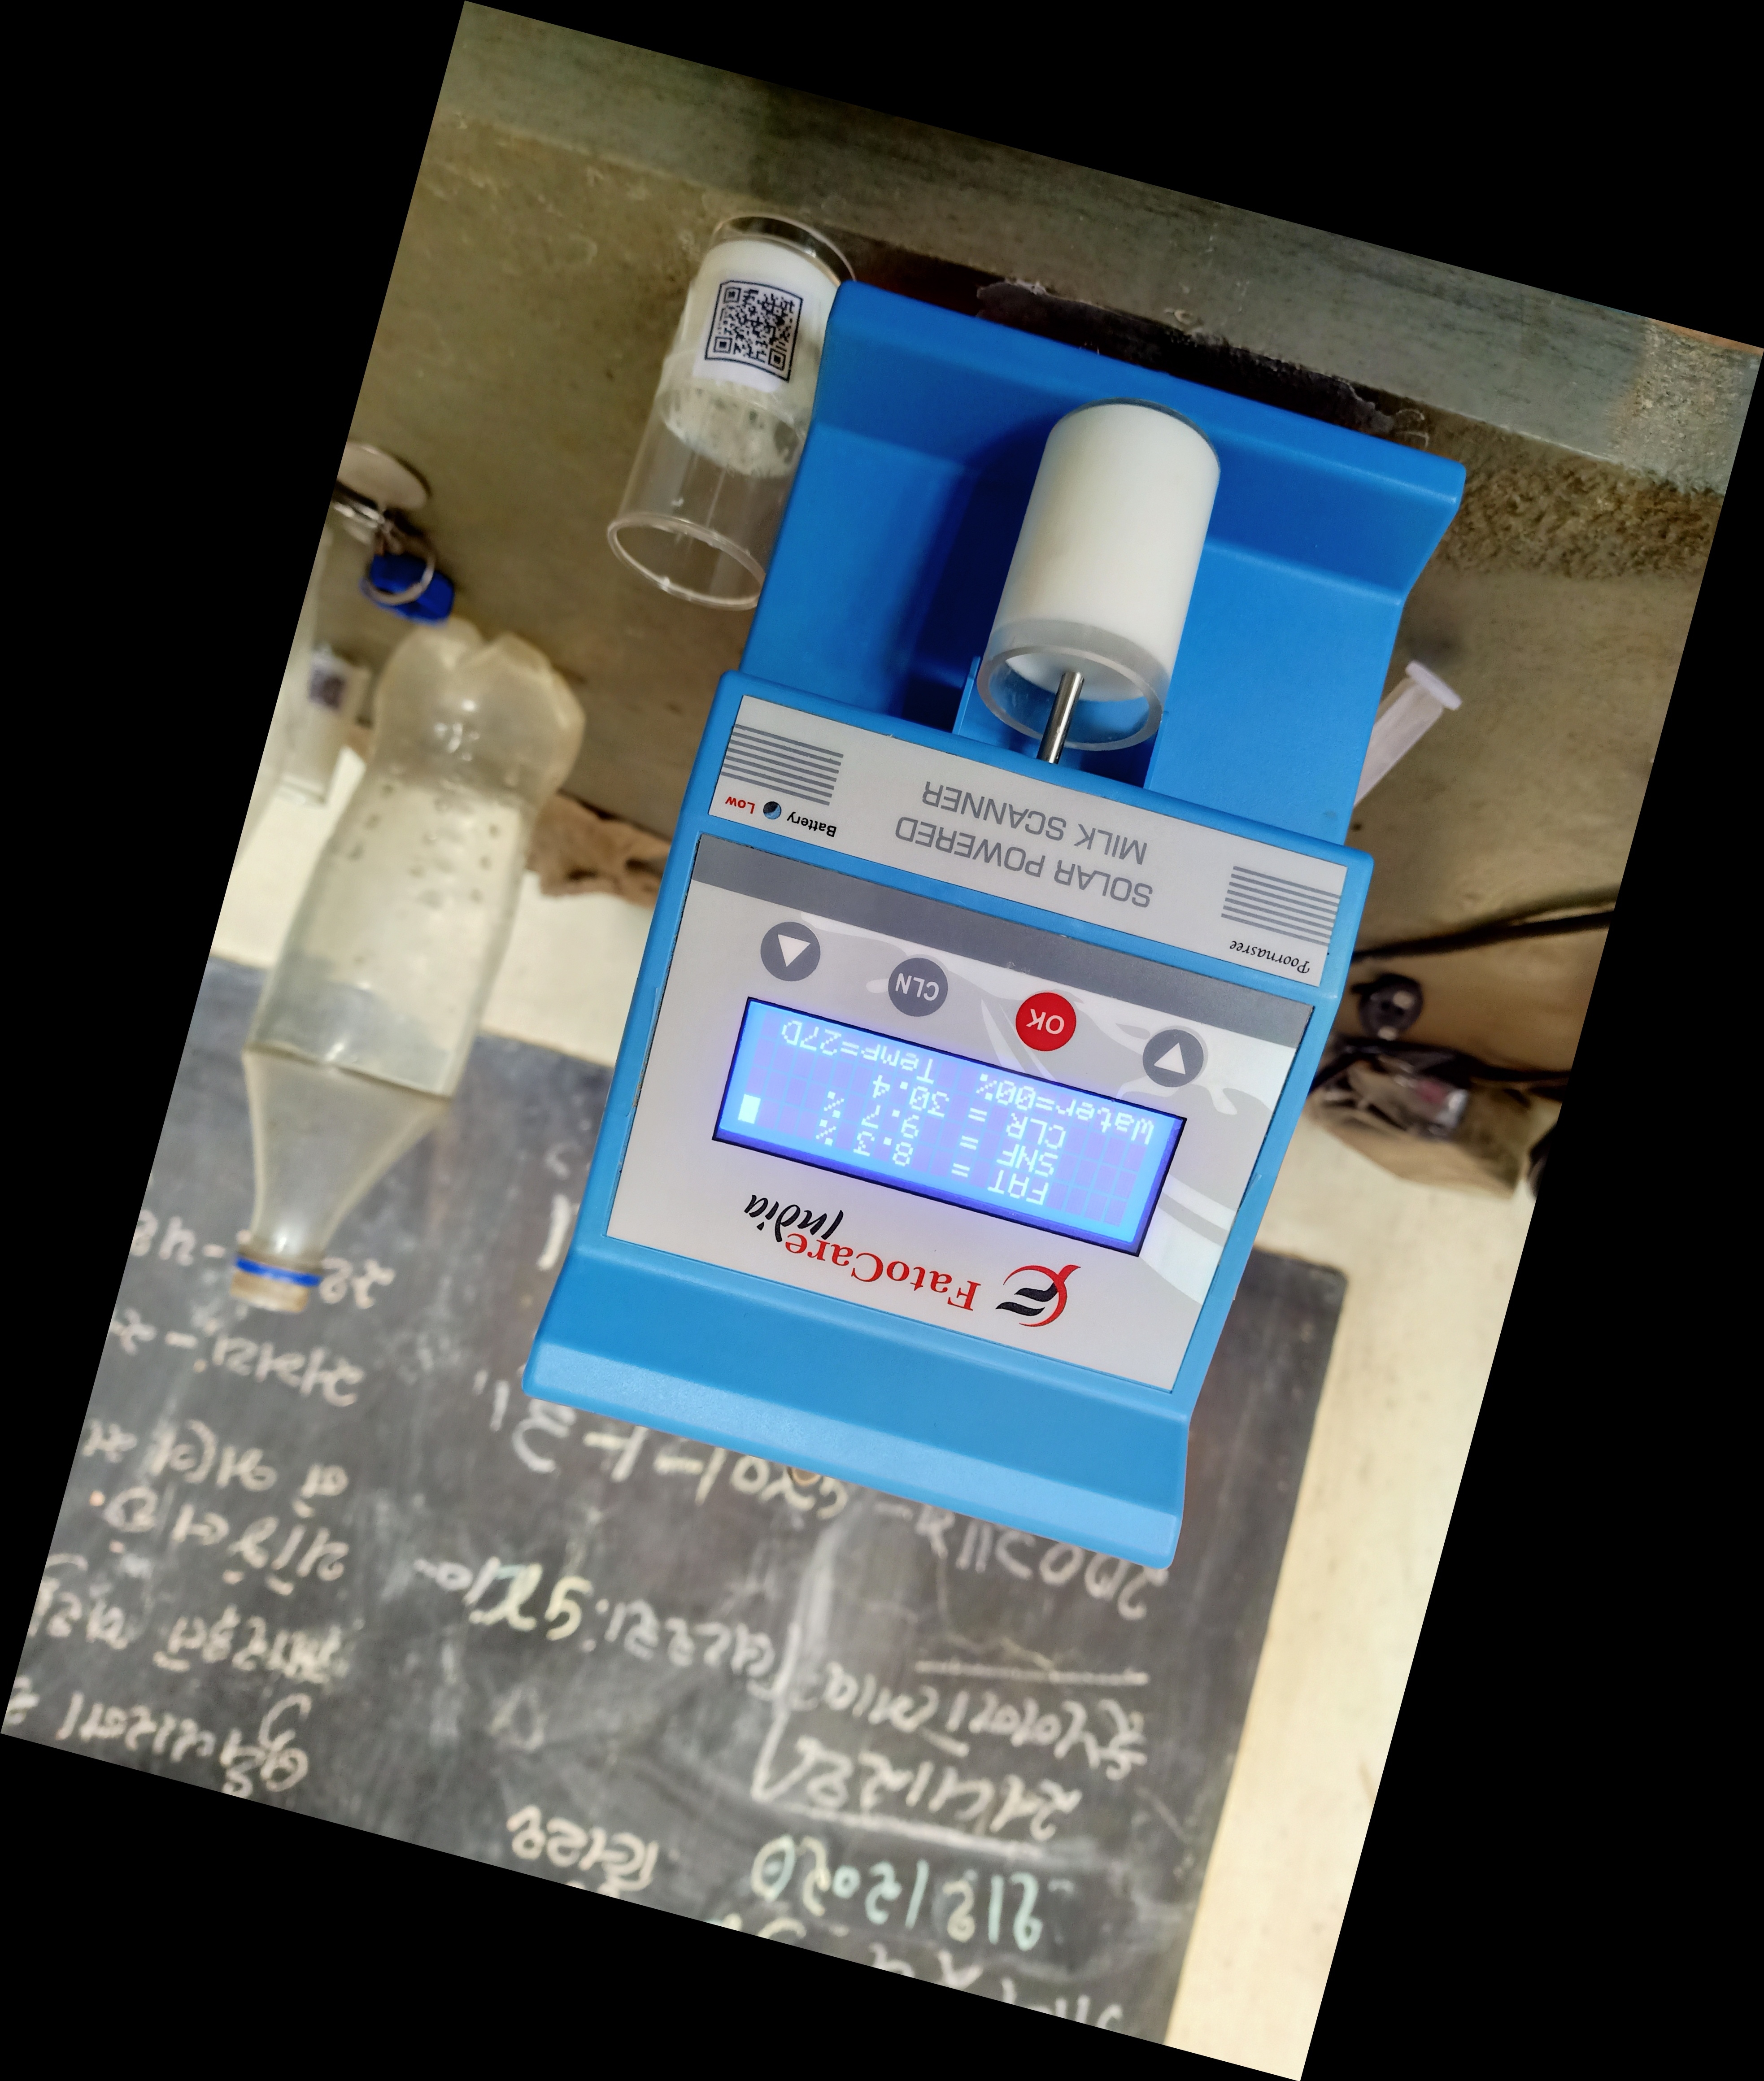lcd: (698, 982, 1204, 1293)
qr: (707, 263, 803, 387)
